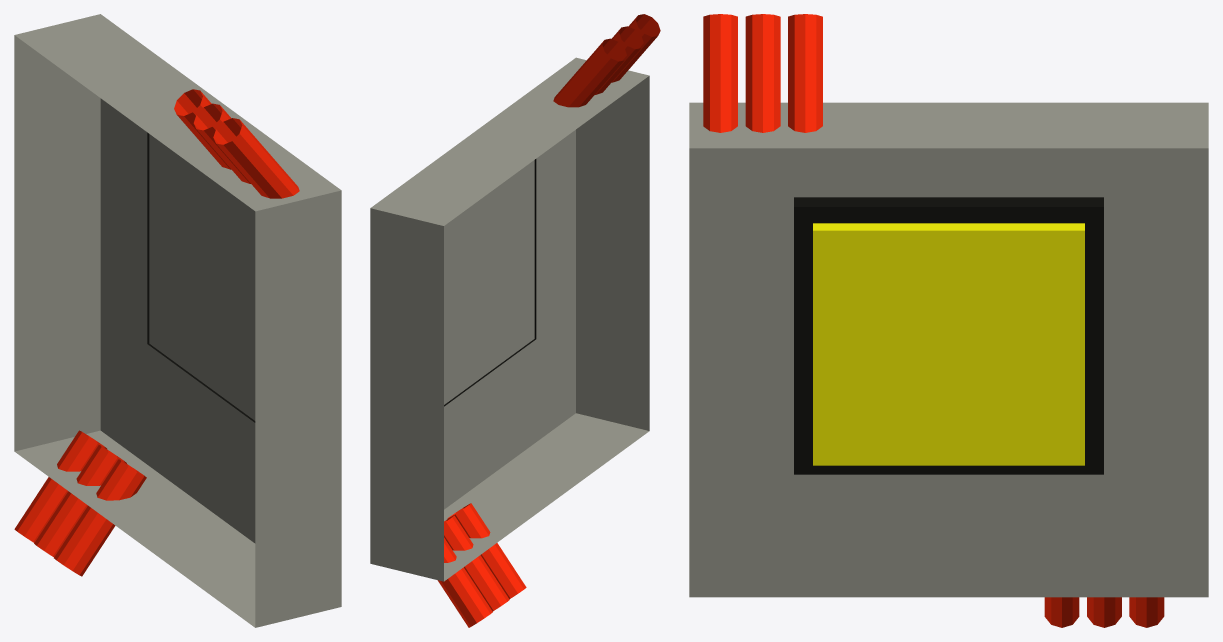
The model's file is FuseBox.fbx.
3 views of the same model, side by side, from view 1: azimuth 30°, elevation 25°; view 2: azimuth 150°, elevation 25°; view 3: azimuth 270°, elevation 25° (orthographic). The views are drawn at different scales.
Visible parts, largest first — view 1: group8_pasted__pCylinder1; view 2: group8_pasted__pCylinder1; view 3: group8_pasted__pCylinder1.
Part boxes in pixels (left/top/right/bottom): group8_pasted__pCylinder1: left=14, top=14, right=341, bottom=627; group8_pasted__pCylinder1: left=370, top=14, right=660, bottom=627; group8_pasted__pCylinder1: left=689, top=14, right=1208, bottom=627.
Bounding box in the file's own units: 70.12 × 264 × 202.
